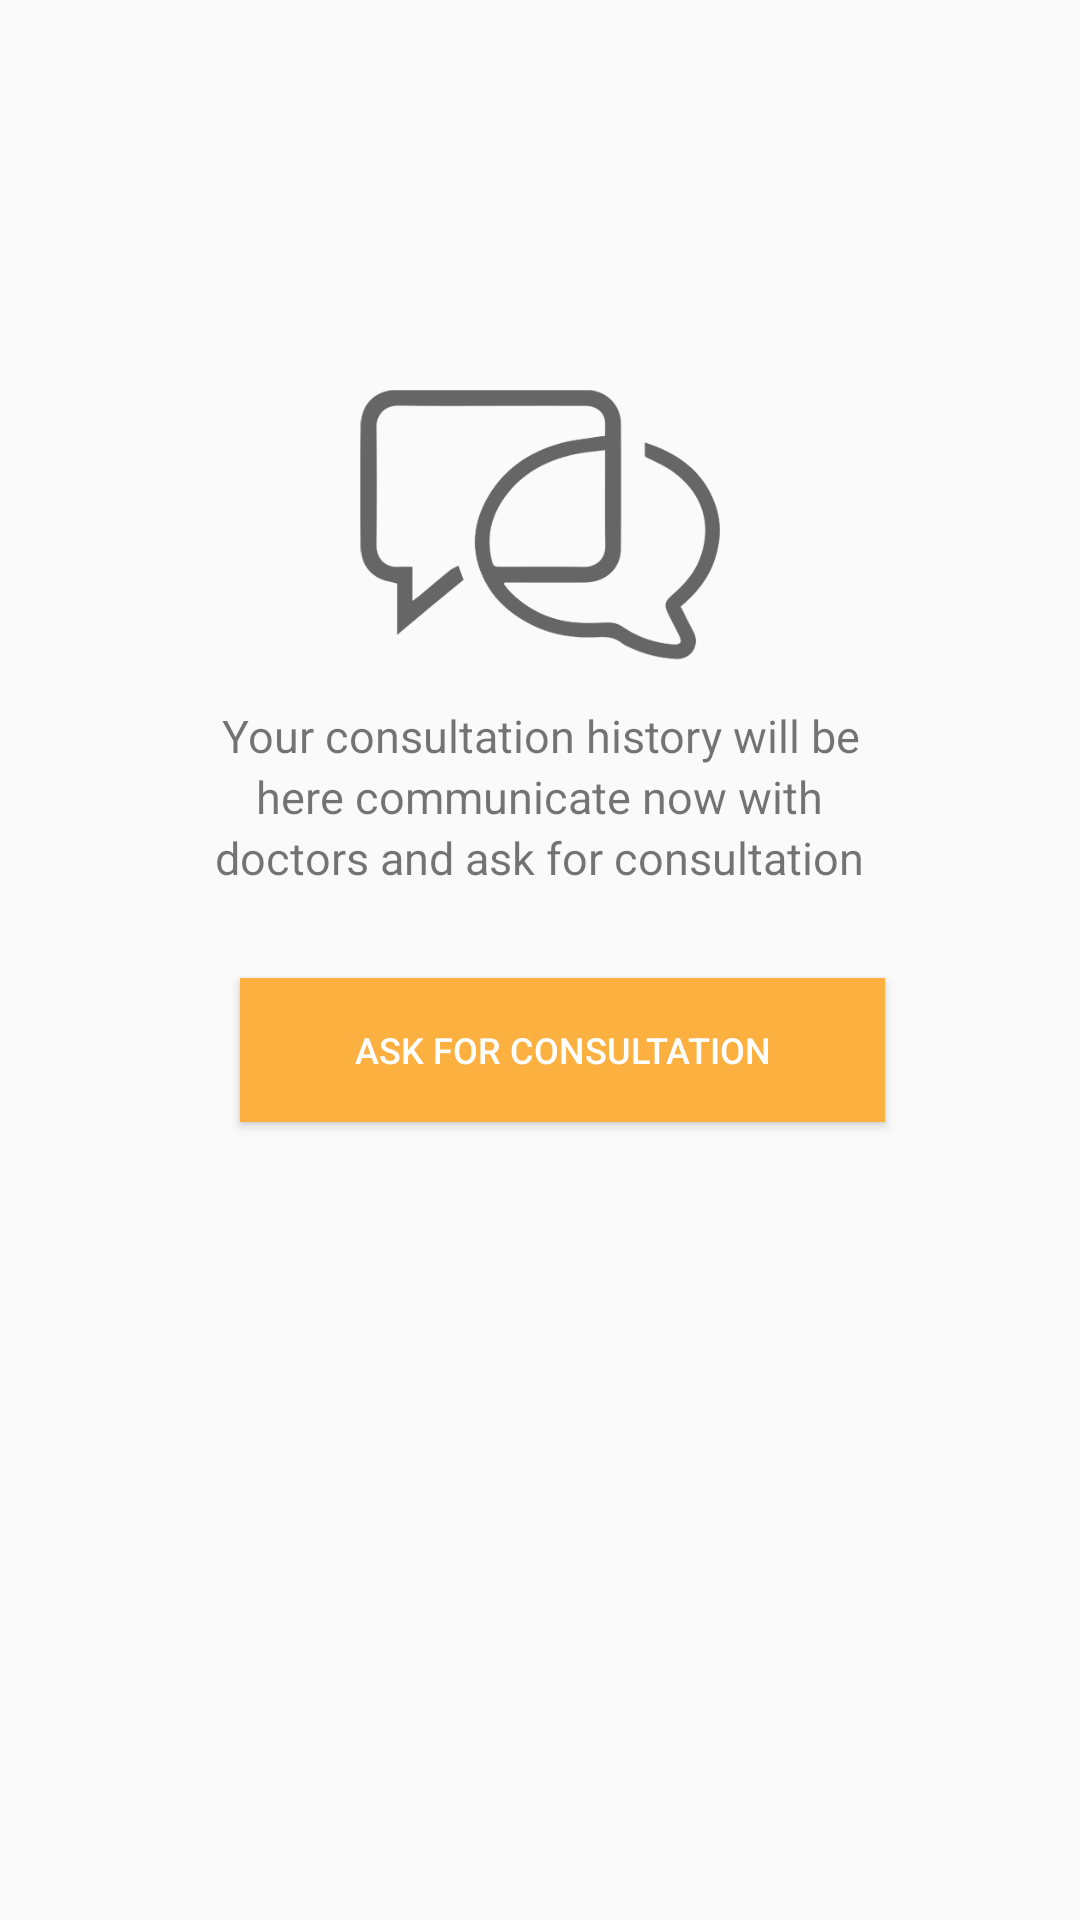

Where icons sit on this 1080w x 1920h app screen, as BBox(x1, y1, x2, y2):
pic chat: BBox(360, 390, 720, 660)
